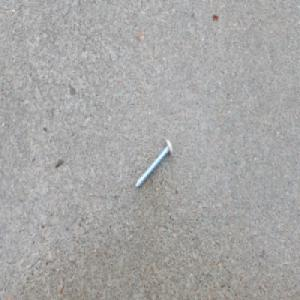Nail: (134, 135, 174, 189)
